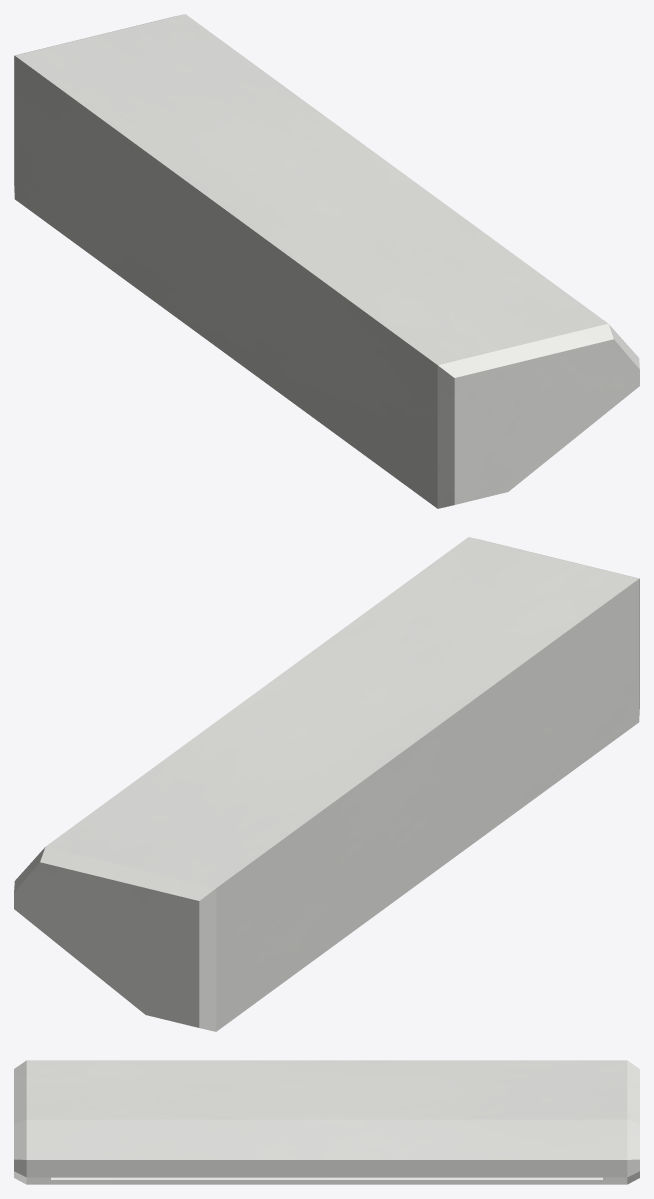
File: SM_Ar condicionado .fbx
3 views of the same model, one above another, from view 1: azimuth 30°, elevation 25°; view 2: azimuth 150°, elevation 25°; view 3: azimuth 270°, elevation 25° (orthographic). The views are drawn at different scales.
Parts seen in each view (by area): view 1: SM_Ar condicionado; view 2: SM_Ar condicionado; view 3: SM_Ar condicionado.
Boxes of the visible parts, <box> form: SM_Ar condicionado: <box>14,14,639,508</box>; SM_Ar condicionado: <box>14,537,639,1031</box>; SM_Ar condicionado: <box>14,1060,639,1184</box>.
Size of the model in its own units: 39.5 by 26.93 by 150.
